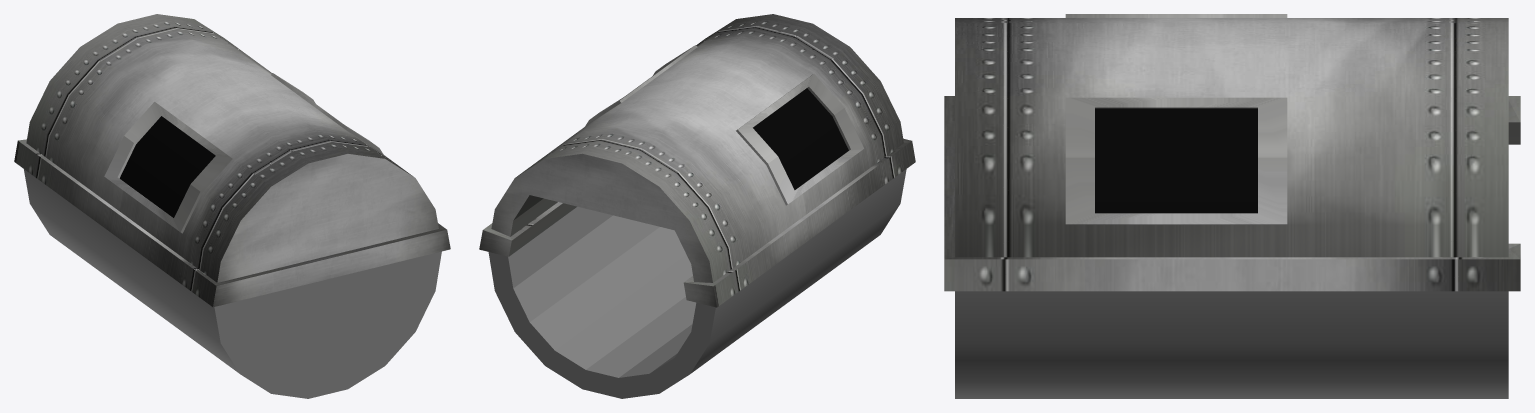
The model's file is Garage.fbx.
3 renders of one model, left to right at view 1: azimuth 30°, elevation 25°; view 2: azimuth 150°, elevation 25°; view 3: azimuth 270°, elevation 25°, orthographic. The views are drawn at different scales.
Visible parts, largest first — view 1: Cylinder006; view 2: Cylinder006; view 3: Cylinder006.
Boxes of the visible parts, x1,y1,x2,y2 form: Cylinder006: [14, 14, 450, 398]; Cylinder006: [479, 14, 915, 398]; Cylinder006: [944, 14, 1520, 398].
Bounding box in the file's own units: 84.22 × 79.69 × 122.
5 materials, 1 textured.
